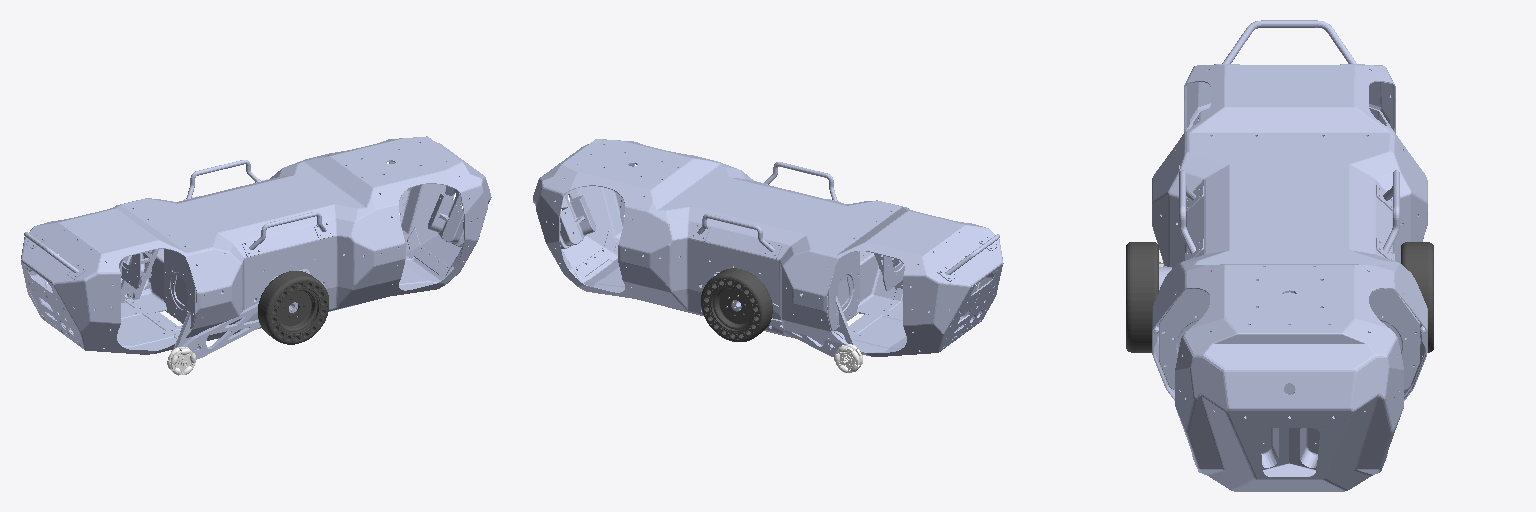
URDF robot description (nz):
<?xml version="1.0" encoding="utf-8"?>
<!-- This URDF was automatically created by SolidWorks to URDF Exporter! Originally created by [author] ([email redacted]) 
     Commit Version: 1.6.0-4-g7f85cfe  Build Version: 1.6.7995.38578
     For more information, please see http://wiki.ros.org/sw_urdf_exporter -->
<robot
  name="nz">
  <link
    name="base_link">
    <inertial>
      <origin
        xyz="0.0772110115185622 0.00365409160309633 0.0684731367019287"
        rpy="0 0 0" />
      <mass
        value="4.1216284" />
      <inertia
        ixx="0.0498463"
        ixy="0.0004170"
        ixz="-0.0040995"
        iyy="0.0768737"
        iyz="-0.0000207"
        izz="0.1033353" />
    </inertial>
    <visual>
      <origin
        xyz="0 0 0"
        rpy="0 0 0" />
      <geometry>
        <mesh
          filename="package://meshes/base_link.STL" />
      </geometry>
      <material
        name="">
        <color
          rgba="0.792156862745098 0.819607843137255 0.933333333333333 1" />
      </material>
    </visual>
    <collision>
      <origin
        xyz="0 0 0"
        rpy="0 0 0" />
      <geometry>
        <mesh
          filename="package://meshes/base_link.STL" />
      </geometry>
    </collision>
  </link>
  <link
    name="left_hip_link">
    <inertial>
      <origin
        xyz="-0.129913458293491 -0.0178191935412482 7.59898297969542E-05"
        rpy="0 0 0" />
      <mass
        value="3.3489287" />
      <inertia
        ixx="0.0041290"
        ixy="0.0008675"
        ixz="0.0000319"
        iyy="0.0161996"
        iyz="0.0000029"
        izz="0.0159030" />
    </inertial>
    <visual>
      <origin
        xyz="0 0 0"
        rpy="0 0 0" />
      <geometry>
        <mesh
          filename="package://meshes/left_hip_link.STL" />
      </geometry>
      <material
        name="">
        <color
          rgba="0.792156862745098 0.819607843137255 0.933333333333333 1" />
      </material>
    </visual>
    <collision>
      <origin
        xyz="0 0 0"
        rpy="0 0 0" />
      <geometry>
        <mesh
          filename="package://meshes/left_hip_link.STL" />
      </geometry>
    </collision>
  </link>
  <joint
    name="left_hip_joint"
    type="fixed">
    <origin
      xyz="0.15125 0.1033 0.074"
      rpy="-0.00073018 0 0" />
    <parent
      link="base_link" />
    <child
      link="left_hip_link" />
    <axis
      xyz="0 0 0" />
    <limit
      lower="-0.31416"
      upper="0.31416"
      effort="23.6"
      velocity="0" />
  </joint>
  <link
    name="left_thigh_link">
    <inertial>
      <origin
        xyz="-0.0488434597921626 0.00969818146991977 -0.0820338494792314"
        rpy="0 0 0" />
      <mass
        value="0.43777" />
      <inertia
        ixx="0.0017974"
        ixy="0.0000493"
        ixz="-0.0006903"
        iyy="0.0022850"
        iyz="0.0000485"
        izz="0.0005382" />
    </inertial>
    <visual>
      <origin
        xyz="0 0 0"
        rpy="0 0 0" />
      <geometry>
        <mesh
          filename="package://meshes/left_thigh_link.STL" />
      </geometry>
      <material
        name="">
        <color
          rgba="0.792156862745098 0.819607843137255 0.933333333333333 1" />
      </material>
    </visual>
    <collision>
      <origin
        xyz="0 0 0"
        rpy="0 0 0" />
      <geometry>
        <mesh
          filename="package://meshes/left_thigh_link.STL" />
      </geometry>
    </collision>
  </link>
  <joint
    name="left_thigh_joint"
    type="continuous">
    <origin
      xyz="-0.176 0.030301 0"
      rpy="0 0 0" />
    <parent
      link="left_hip_link" />
    <child
      link="left_thigh_link" />
    <axis
      xyz="0 1 0" />
    <limit
      lower="-1.0472"
      upper="0.5236"
      effort="40"
      velocity="0" />
  </joint>
  <link
    name="left_calf_link">
    <inertial>
      <origin
        xyz="0.16973424946336 0.00232413112260152 0.0454857130793686"
        rpy="0 0 0" />
      <mass
        value="0.8053" />
      <inertia
        ixx="0.0028731"
        ixy="0.0013546"
        ixz="-0.0032254"
        iyy="0.0089127"
        iyz="0.0009997"
        izz="0.0074584" />
    </inertial>
    <visual>
      <origin
        xyz="0 0 0"
        rpy="0 0 0" />
      <geometry>
        <mesh
          filename="package://meshes/left_calf_link.STL" />
      </geometry>
      <material
        name="">
        <color
          rgba="0.792156862745098 0.819607843137255 0.933333333333333 1" />
      </material>
    </visual>
    <collision>
      <origin
        xyz="0 0 0"
        rpy="0 0 0" />
      <geometry>
        <mesh
          filename="package://meshes/left_calf_link.STL" />
      </geometry>
    </collision>
  </link>
  <joint
    name="left_calf_joint"
    type="continuous">
    <origin
      xyz="-0.074709 0.018 -0.16376"
      rpy="0 0 0" />
    <parent
      link="left_thigh_link" />
    <child
      link="left_calf_link" />
    <axis
      xyz="0 1 0" />
    <limit
      lower="-1.3963"
      upper="0"
      effort="40"
      velocity="0" />
  </joint>
  <link
    name="left_wheel_link">
    <inertial>
      <origin
        xyz="-2.95235502711932E-11 0.0134999704617854 1.47686862739249E-11"
        rpy="0 0 0" />
      <mass
        value="0.75" />
      <inertia
        ixx="0.0015176"
        ixy="0"
        ixz="0"
        iyy="0.0028141"
        iyz="0"
        izz="0.0015176" />
    </inertial>
    <visual>
      <origin
        xyz="0 0 0"
        rpy="0 0 0" />
      <geometry>
        <mesh
          filename="package://meshes/left_wheel_link.STL" />
      </geometry>
      <material
        name="">
        <color
          rgba="0.376470588235294 0.376470588235294 0.376470588235294 1" />
      </material>
    </visual>
    <collision>
      <origin
        xyz="0 0 0"
        rpy="0 0 0" />
      <geometry>
        <mesh
          filename="package://meshes/left_wheel_link.STL" />
      </geometry>
    </collision>
  </link>
  <joint
    name="left_wheel_joint"
    type="continuous">
    <origin
      xyz="0.20864 0.027 0.055905"
      rpy="0 0 0" />
    <parent
      link="left_calf_link" />
    <child
      link="left_wheel_link" />
    <axis
      xyz="0 1 0" />
    <limit
      effort="12"
      velocity="0" />
  </joint>
  <link
    name="left_knee_link">
    <inertial>
      <origin
        xyz="5.44590350487484E-05 1.17713143685805E-05 -5.61706548485308E-06"
        rpy="0 0 0" />
      <mass
        value="0.09" />
      <inertia
        ixx="0.0000268"
        ixy="0.0000001"
        ixz="0.0000001"
        iyy="0.0000436"
        iyz="0.0000001"
        izz="0.0000268" />
    </inertial>
    <visual>
      <origin
        xyz="0 0 0"
        rpy="0 0 0" />
      <geometry>
        <mesh
          filename="package://meshes/left_knee_link.STL" />
      </geometry>
      <material
        name="">
        <color
          rgba="1 1 1 1" />
      </material>
    </visual>
    <collision>
      <origin
        xyz="0 0 0"
        rpy="0 0 0" />
      <geometry>
        <mesh
          filename="package://meshes/left_knee_link.STL" />
      </geometry>
    </collision>
  </link>
  <joint
    name="left_knee_wheel_joint"
    type="continuous">
    <origin
      xyz="-0.048296 0.02265 -0.012941"
      rpy="0 0 0" />
    <parent
      link="left_calf_link" />
    <child
      link="left_knee_link" />
    <axis
      xyz="0 1 0" />
    <limit
      lower="0"
      upper="0"
      effort="12"
      velocity="0" />
  </joint>
  <link
    name="right_hip_link">
    <inertial>
      <origin
        xyz="-0.12914218220028 0.0176739637017305 0.00105196820752493"
        rpy="0 0 0" />
      <mass
        value="3.3496969" />
      <inertia
        ixx="0.0041552"
        ixy="-0.0008223"
        ixz="0.0000276"
        iyy="0.0162365"
        iyz="-0.0000519"
        izz="0.0159605" />
    </inertial>
    <visual>
      <origin
        xyz="0 0 0"
        rpy="0 0 0" />
      <geometry>
        <mesh
          filename="package://meshes/right_hip_link.STL" />
      </geometry>
      <material
        name="">
        <color
          rgba="0.796078431372549 0.823529411764706 0.937254901960784 1" />
      </material>
    </visual>
    <collision>
      <origin
        xyz="0 0 0"
        rpy="0 0 0" />
      <geometry>
        <mesh
          filename="package://meshes/right_hip_link.STL" />
      </geometry>
    </collision>
  </link>
  <joint
    name="right_hip_joint"
    type="fixed">
    <origin
      xyz="0.15125 -0.096698 0.074146"
      rpy="-0.00073018 0 0" />
    <parent
      link="base_link" />
    <child
      link="right_hip_link" />
    <axis
      xyz="0 0 0" />
    <limit
      lower="0.31416"
      upper="-0.31416"
      effort="23.6"
      velocity="0" />
  </joint>
  <link
    name="right_thigh_link">
    <inertial>
      <origin
        xyz="-0.0506448629787332 -0.00635154610052269 -0.0843417759624508"
        rpy="0 0 0" />
      <mass
        value="0.43777" />
      <inertia
        ixx="0.0017973"
        ixy="-0.0000497"
        ixz="-0.0006902"
        iyy="0.0022849"
        iyz="-0.0000512"
        izz="0.0005382" />
    </inertial>
    <visual>
      <origin
        xyz="0 0 0"
        rpy="0 0 0" />
      <geometry>
        <mesh
          filename="package://meshes/right_thigh_link.STL" />
      </geometry>
      <material
        name="">
        <color
          rgba="0.792156862745098 0.819607843137255 0.933333333333333 1" />
      </material>
    </visual>
    <collision>
      <origin
        xyz="0 0 0"
        rpy="0 0 0" />
      <geometry>
        <mesh
          filename="package://meshes/right_thigh_link.STL" />
      </geometry>
    </collision>
  </link>
  <joint
    name="right_thigh_joint"
    type="continuous">
    <origin
      xyz="-0.176 -0.030251 0"
      rpy="0 0 0" />
    <parent
      link="right_hip_link" />
    <child
      link="right_thigh_link" />
    <axis
      xyz="0 1 0" />
    <limit
      lower="-1.0472"
      upper="0.5236"
      effort="40"
      velocity="0" />
  </joint>
  <link
    name="right_calf_link">
    <inertial>
      <origin
        xyz="0.169737034100335 -0.00232413115555213 0.0454753206356527"
        rpy="0 0 0" />
      <mass
        value="0.8053" />
      <inertia
        ixx="0.0012274"
        ixy="-0.0016758"
        ixz="-0.0003727"
        iyy="0.0089116"
        iyz="0.0001884"
        izz="0.0091053" />
    </inertial>
    <visual>
      <origin
        xyz="0 0 0"
        rpy="0 0 0" />
      <geometry>
        <mesh
          filename="package://meshes/right_calf_link.STL" />
      </geometry>
      <material
        name="">
        <color
          rgba="0.792156862745098 0.819607843137255 0.933333333333333 1" />
      </material>
    </visual>
    <collision>
      <origin
        xyz="0 0 0"
        rpy="0 0 0" />
      <geometry>
        <mesh
          filename="package://meshes/right_calf_link.STL" />
      </geometry>
    </collision>
  </link>
  <joint
    name="right_calf_joint"
    type="continuous">
    <origin
      xyz="-0.074709 -0.018 -0.16376"
      rpy="0 0 0" />
    <parent
      link="right_thigh_link" />
    <child
      link="right_calf_link" />
    <axis
      xyz="0 1 0" />
    <limit
      lower="-1.3963"
      upper="0"
      effort="40"
      velocity="0" />
  </joint>
  <link
    name="right_knee_link">
    <inertial>
      <origin
        xyz="-2.24251046984092E-05 1.17685271968926E-05 4.9933180993611E-05"
        rpy="0 0 0" />
      <mass
        value="0.09" />
      <inertia
        ixx="0.0000269"
        ixy="-0.0000001"
        ixz="-0.0000001"
        iyy="0.0000436"
        iyz="0"
        izz="0.0000267" />
    </inertial>
    <visual>
      <origin
        xyz="0 0 0"
        rpy="0 0 0" />
      <geometry>
        <mesh
          filename="package://meshes/right_knee_link.STL" />
      </geometry>
      <material
        name="">
        <color
          rgba="1 1 1 1" />
      </material>
    </visual>
    <collision>
      <origin
        xyz="0 0 0"
        rpy="0 0 0" />
      <geometry>
        <mesh
          filename="package://meshes/right_knee_link.STL" />
      </geometry>
    </collision>
  </link>
  <joint
    name="right_knee_wheel_joint"
    type="continuous">
    <origin
      xyz="-0.048296 -0.02265 -0.012941"
      rpy="0 0 0" />
    <parent
      link="right_calf_link" />
    <child
      link="right_knee_link" />
    <axis
      xyz="0 1 0" />
  </joint>
  <link
    name="right_wheel_link">
    <inertial>
      <origin
        xyz="3.30144800386734E-11 -0.01349997046178 -2.88005730375573E-13"
        rpy="0 0 0" />
      <mass
        value="0.75" />
      <inertia
        ixx="0.0015176"
        ixy="0"
        ixz="0"
        iyy="0.0028141"
        iyz="0"
        izz="0.0015176" />
    </inertial>
    <visual>
      <origin
        xyz="0 0 0"
        rpy="0 0 0" />
      <geometry>
        <mesh
          filename="package://meshes/right_wheel_link.STL" />
      </geometry>
      <material
        name="">
        <color
          rgba="0.376470588235294 0.376470588235294 0.376470588235294 1" />
      </material>
    </visual>
    <collision>
      <origin
        xyz="0 0 0"
        rpy="0 0 0" />
      <geometry>
        <mesh
          filename="package://meshes/right_wheel_link.STL" />
      </geometry>
    </collision>
  </link>
  <joint
    name="right_wheel_joint"
    type="continuous">
    <origin
      xyz="0.20864 -0.027 0.055905"
      rpy="0 0 0" />
    <parent
      link="right_calf_link" />
    <child
      link="right_wheel_link" />
    <axis
      xyz="0 1 0" />
    <limit
      effort="12"
      velocity="0" />
  </joint>
</robot>

--- What the picture shows (computed from the rendered views, not written in the file) ---
Views: 3 orthographic renders of the robot side by side, from view 1: azimuth 30°, elevation 25°; view 2: azimuth 150°, elevation 25°; view 3: azimuth 270°, elevation 25°.
Robot: nz — 11 links, 10 joints (8 continuous, 2 fixed); root link base_link; default pose: all joints at 0.
Links seen in each view (by area): view 1: base_link, right_wheel_link, right_calf_link, left_thigh_link, right_knee_link; view 2: base_link, left_wheel_link, left_calf_link, left_knee_link; view 3: base_link, right_wheel_link, left_wheel_link.
Link boxes in pixels (box(x1,y1,x2,y2)): base_link: box(21, 136, 491, 354); right_wheel_link: box(258, 271, 328, 344); right_calf_link: box(181, 302, 297, 359); left_thigh_link: box(112, 249, 158, 302); right_knee_link: box(167, 346, 195, 375); base_link: box(533, 139, 1003, 356); left_wheel_link: box(701, 268, 772, 341); left_calf_link: box(727, 295, 847, 356); left_knee_link: box(834, 344, 862, 372); base_link: box(1152, 20, 1427, 491); right_wheel_link: box(1126, 242, 1158, 352); left_wheel_link: box(1401, 242, 1433, 352).
Size in the robot's own frame: 1.04 by 0.4236 by 0.2872 metres.
Meshes: 11 distinct files referenced, 9 mesh visuals loaded (9 binary STL); not drawn: 2 (reference not matched to a file when rendering).